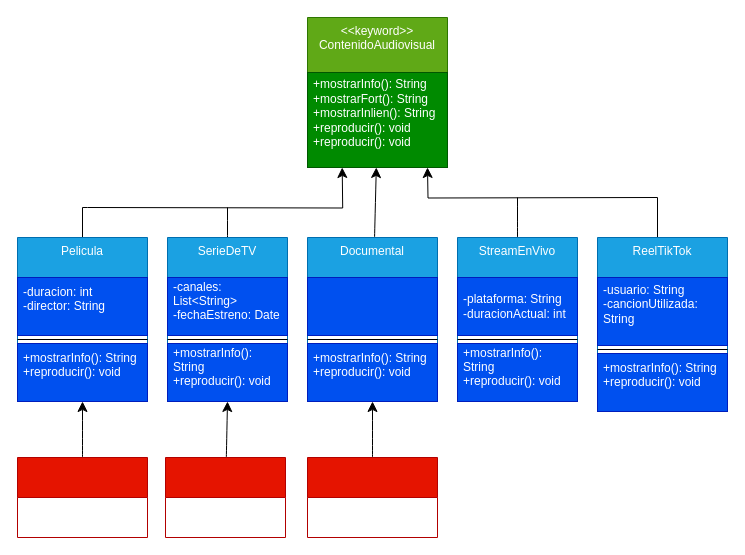
Image size: 745x555. Some labels were removed from this diagram. The centre of each missing label's shape, as x and y in pixels:
"-tema: String -fuentes: List<String>" belongs at (372,306).
"Actor" belongs at (82,497).
"Investigador" belongs at (372,497).
"Temporada" belongs at (225,497).
